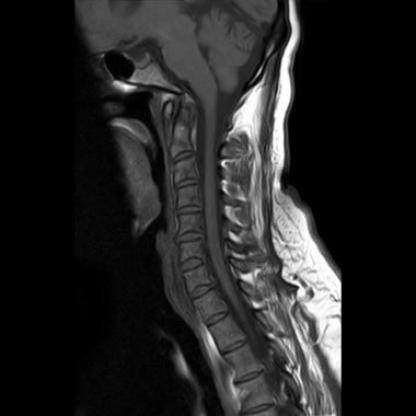Disc Bulgerotation: (176, 229, 205, 247), (178, 256, 207, 273)
Osteophytesrotation: (177, 256, 207, 273), (176, 230, 205, 247)
